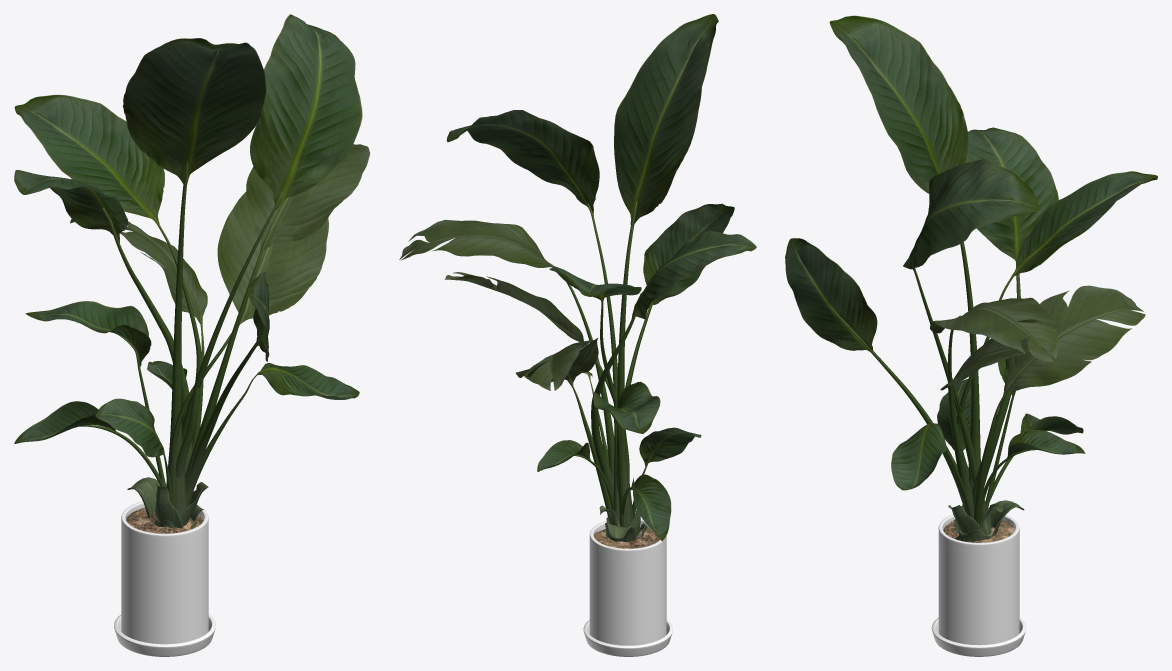
The model's file is pottedstrelizia.glb.
3 views of the same model, side by side, from view 1: azimuth 30°, elevation 25°; view 2: azimuth 150°, elevation 25°; view 3: azimuth 270°, elevation 25° (orthographic). The views are drawn at different scales.
Visible parts, largest first — view 1: plant, pot; view 2: plant, pot; view 3: plant, pot.
Boxes of the visible parts, x1,y1,x2,y2 form: plant: (14, 14, 370, 528); pot: (114, 501, 215, 656); plant: (399, 14, 756, 541); pot: (583, 519, 672, 656); plant: (785, 15, 1157, 541); pot: (931, 514, 1026, 656).
Size of the model in its own units: 0.6095 by 1.04 by 0.5757.
7 materials, 6 textured.
